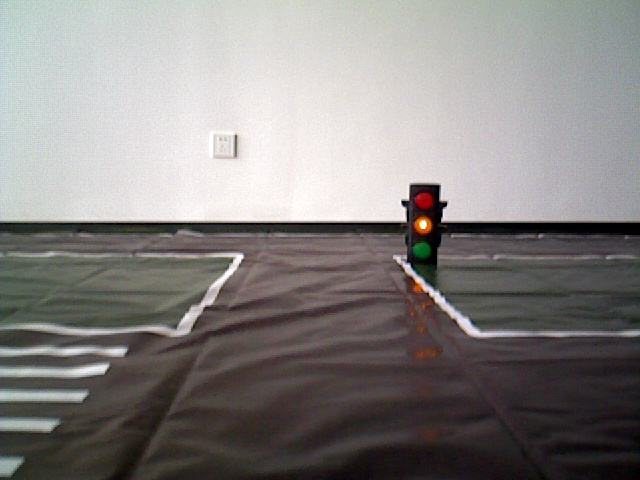yellow: (405, 183, 441, 260)
